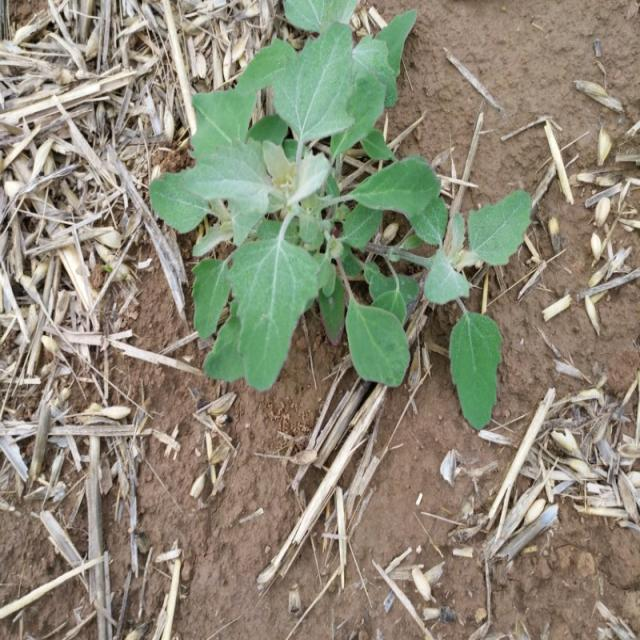goosefoots: (164, 45, 515, 391)
